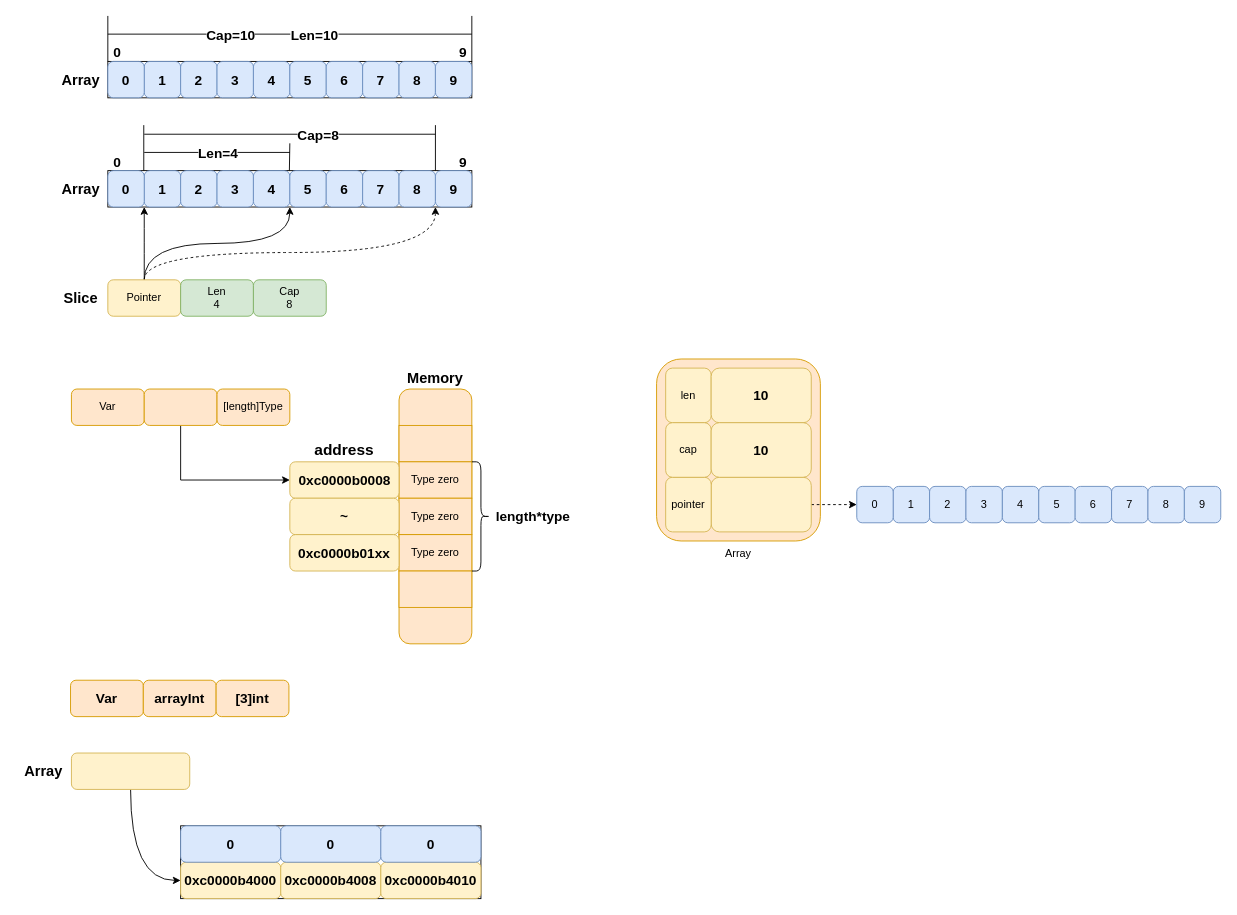
Image size: 1237x915. Some labels were removed from this diagram. The centre of each missing label's shape, as x and y in pixels:
"0xc0000b60f0" belongs at point (760, 504).
"arrayInt 0xc0000b4000" belongs at point (130, 770).
"ArrayName" belongs at point (180, 406).
